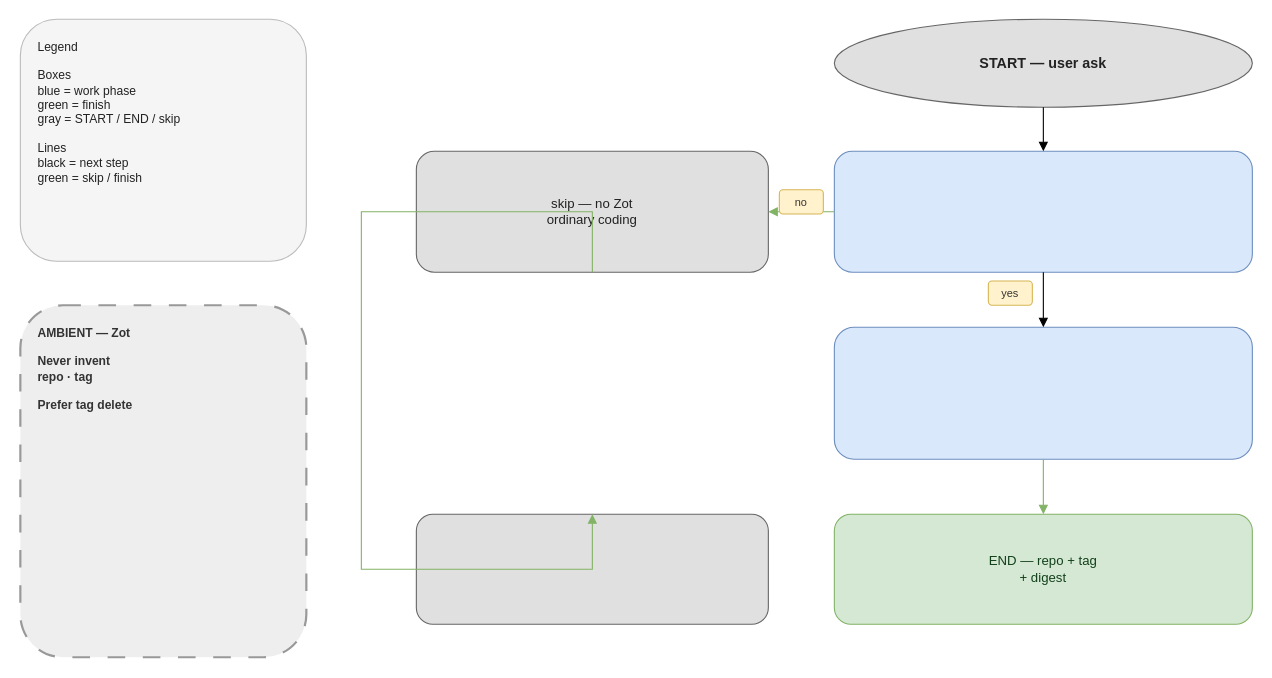
The diagram is 1272 pixels wide and 678 high, and some of its shapes have lost their labels. Here are the shapes that lost their labels. From the top down, the centre of each, then its label:
At point 1042,211: "gate · Zot? OCI registry ask".
At point 1042,392: "inventory first delete/GC only with explicit verb".
At point 591,568: "END — stay out".
